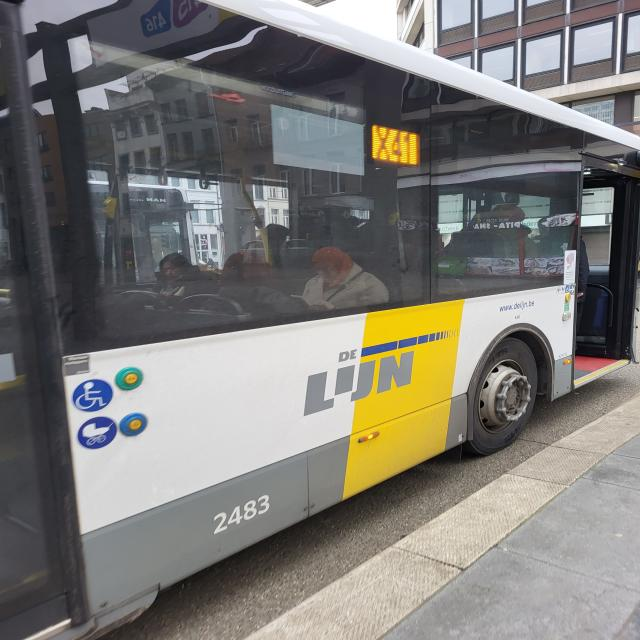bus-number: (372, 126, 417, 166)
